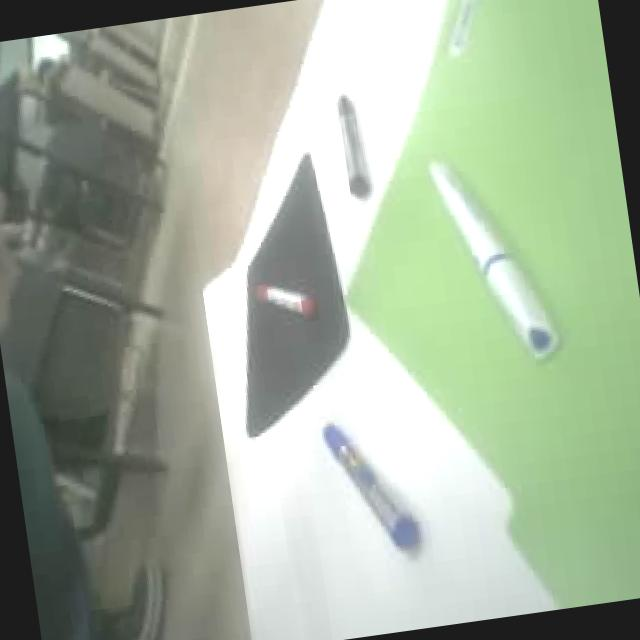board-marker: (430, 161, 558, 357), (323, 424, 420, 549), (338, 94, 372, 196), (257, 286, 316, 314)
